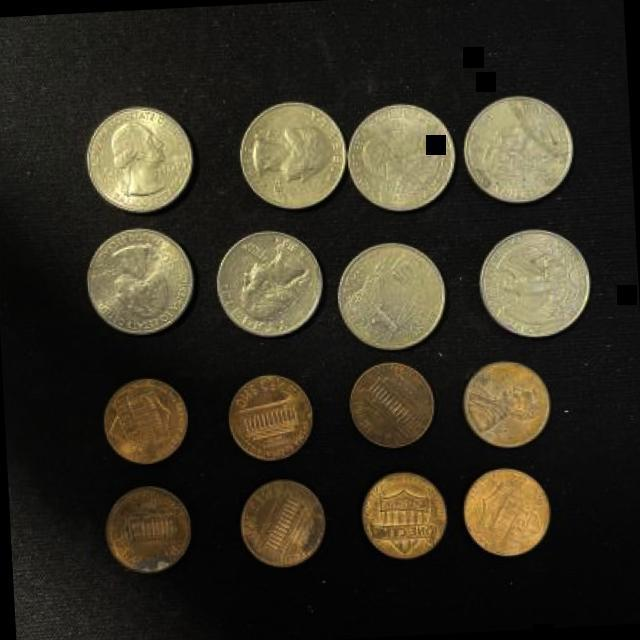Penny: (352, 470, 458, 569), (456, 354, 556, 455), (236, 474, 334, 575), (456, 464, 555, 562), (222, 371, 316, 469), (348, 356, 438, 456), (95, 378, 192, 469), (100, 486, 198, 576)
Quarter: (468, 224, 592, 344), (458, 90, 578, 210), (342, 98, 459, 218), (78, 227, 200, 342), (328, 241, 448, 357), (233, 94, 349, 214), (76, 105, 199, 218), (212, 225, 330, 341)
